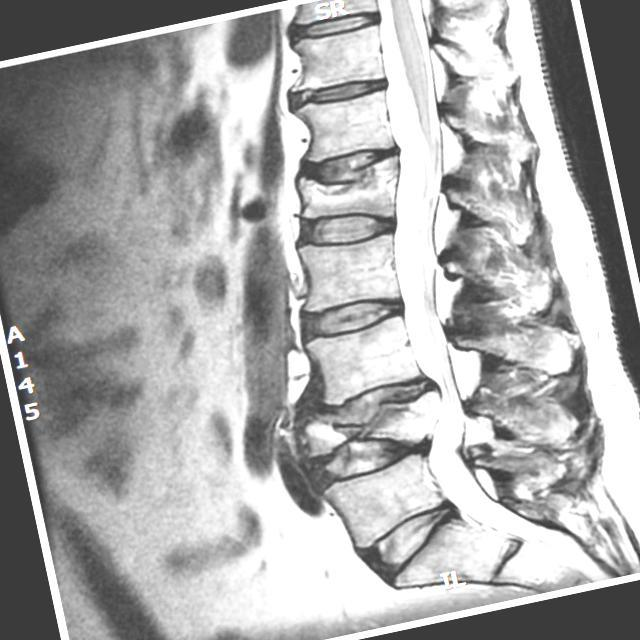Compression-Crush Fracutre: (288, 162, 416, 221)
